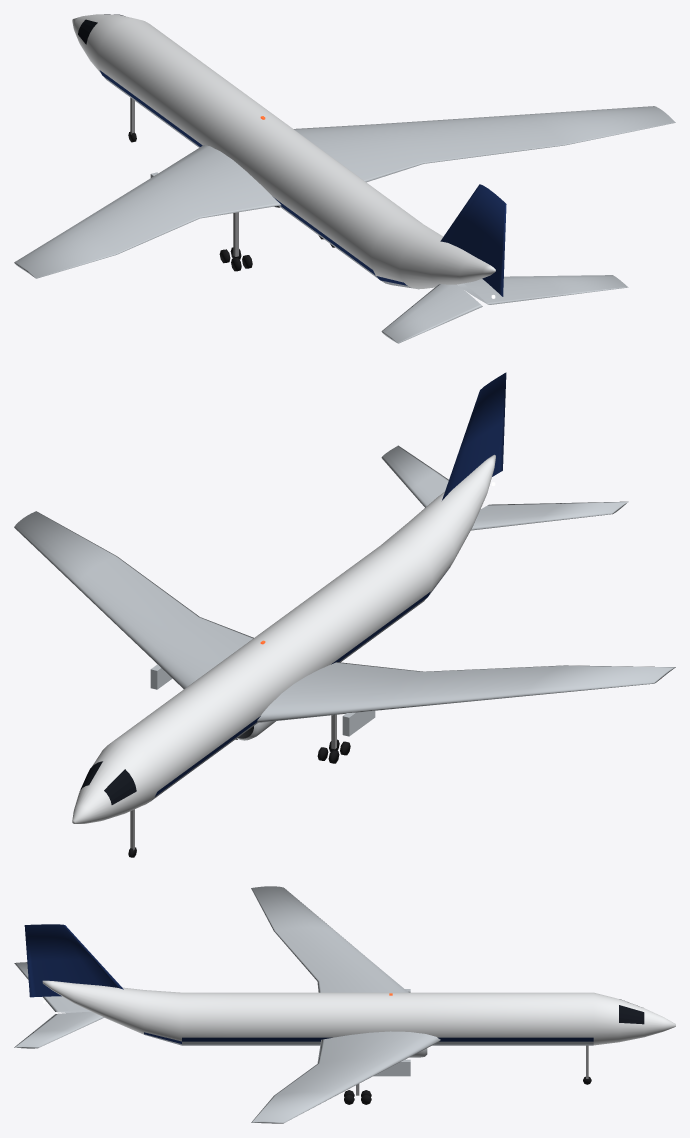
3 views of the same model, one above another, from view 1: azimuth 30°, elevation 25°; view 2: azimuth 150°, elevation 25°; view 3: azimuth 270°, elevation 25° (orthographic). The views are drawn at different scales.
Visible parts, largest first — view 1: b77w_lod0_wing, b77w_lod0_white, b77w_lod0_blue, b77w_lod0_gear_tyre; view 2: b77w_lod0_wing, b77w_lod0_white, b77w_lod0_blue, b77w_lod0_glass; view 3: b77w_lod0_white, b77w_lod0_wing, b77w_lod0_blue, b77w_lod0_belly, b77w_lod0_glass.
Boxes of the visible parts, left/top/right/bottom form: b77w_lod0_wing: left=14, top=106, right=675, bottom=343; b77w_lod0_white: left=72, top=14, right=495, bottom=288; b77w_lod0_blue: left=99, top=70, right=506, bottom=296; b77w_lod0_gear_tyre: left=128, top=132, right=334, bottom=271; b77w_lod0_wing: left=14, top=445, right=675, bottom=736; b77w_lod0_white: left=72, top=454, right=495, bottom=823; b77w_lod0_blue: left=155, top=372, right=506, bottom=796; b77w_lod0_glass: left=79, top=761, right=136, bottom=804; b77w_lod0_white: left=42, top=980, right=675, bottom=1045; b77w_lod0_wing: left=14, top=886, right=440, bottom=1123; b77w_lod0_blue: left=24, top=924, right=593, bottom=1043; b77w_lod0_belly: left=144, top=1034, right=593, bottom=1045; b77w_lod0_glass: left=619, top=999, right=644, bottom=1024.
Size of the model in its own units: 64.8 by 20.49 by 77.19.
